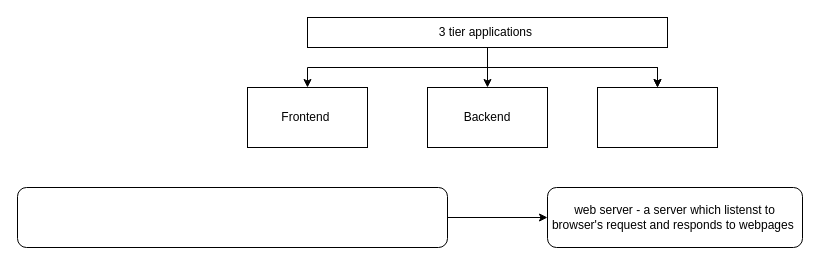
This 820x265 diagram has some shape labels left out. The shapes that lost their labels are listed below. From the top down, each one's box as (x1, y1, x2, y2) in pixels, then its label:
(596, 86, 718, 148): Database
(16, 186, 448, 248): Server - email server, ftp server, web server, ssh
